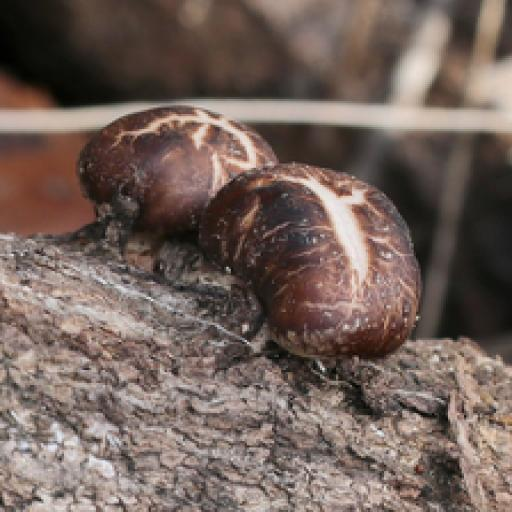Shiitake Mushroom: (38, 70, 454, 386)
